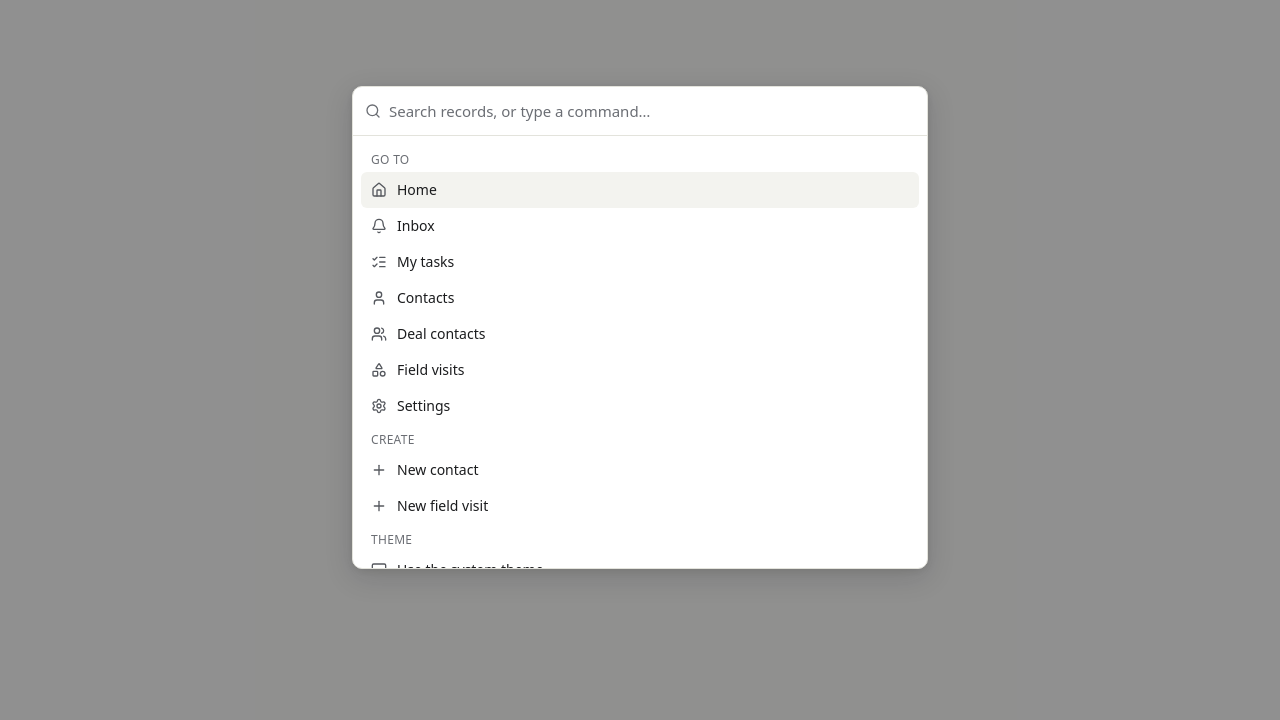
it: the command palette, by keyboard › says 'No matches' only once a search settled with nothing
Step 1. Type "zzqx" into the dropdown → [652, 111], box [389,87,915,135]
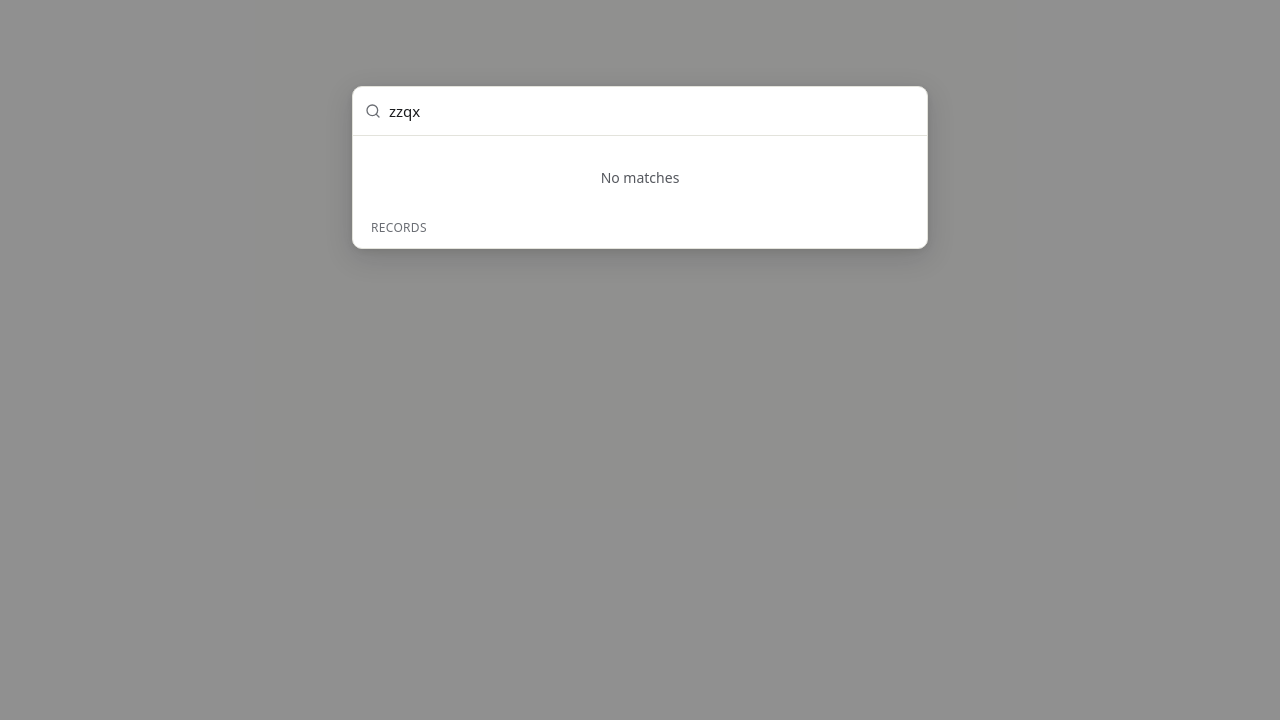
Expected: the text "No matches" is shown, [601,168,679,187]
